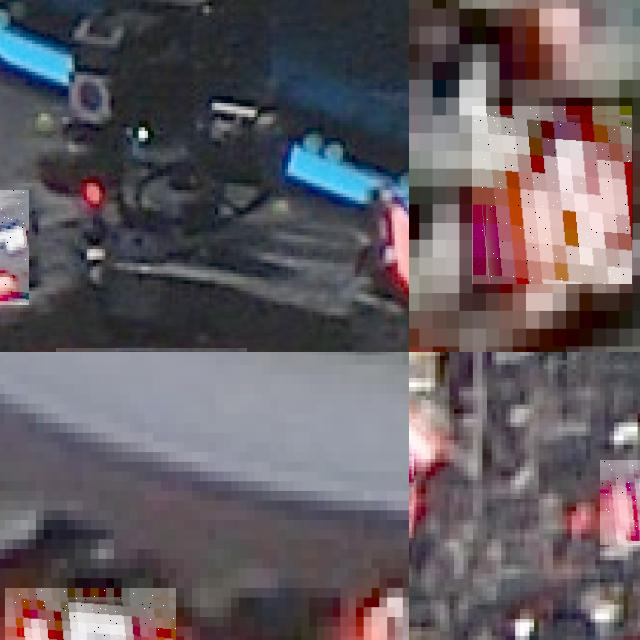R2: (600, 460, 640, 544)
R5: (472, 106, 632, 284), (4, 587, 176, 640), (0, 190, 29, 305)
